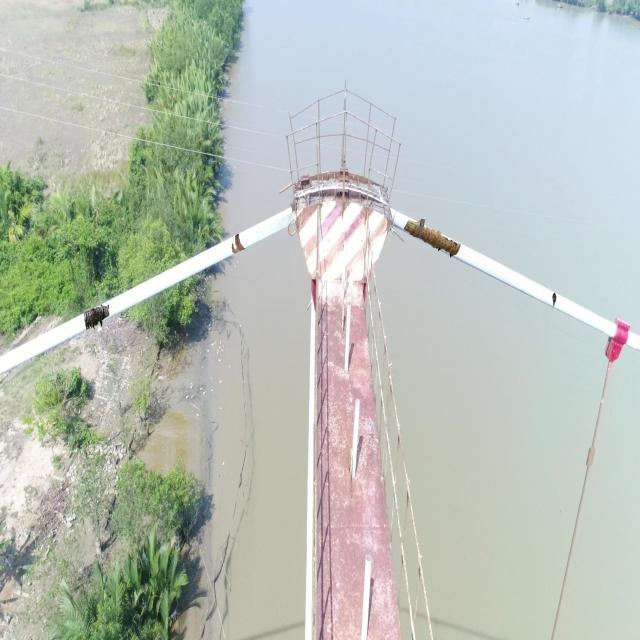corrosion: (404, 217, 462, 259), (83, 304, 110, 330), (232, 233, 246, 254), (552, 292, 557, 308)
